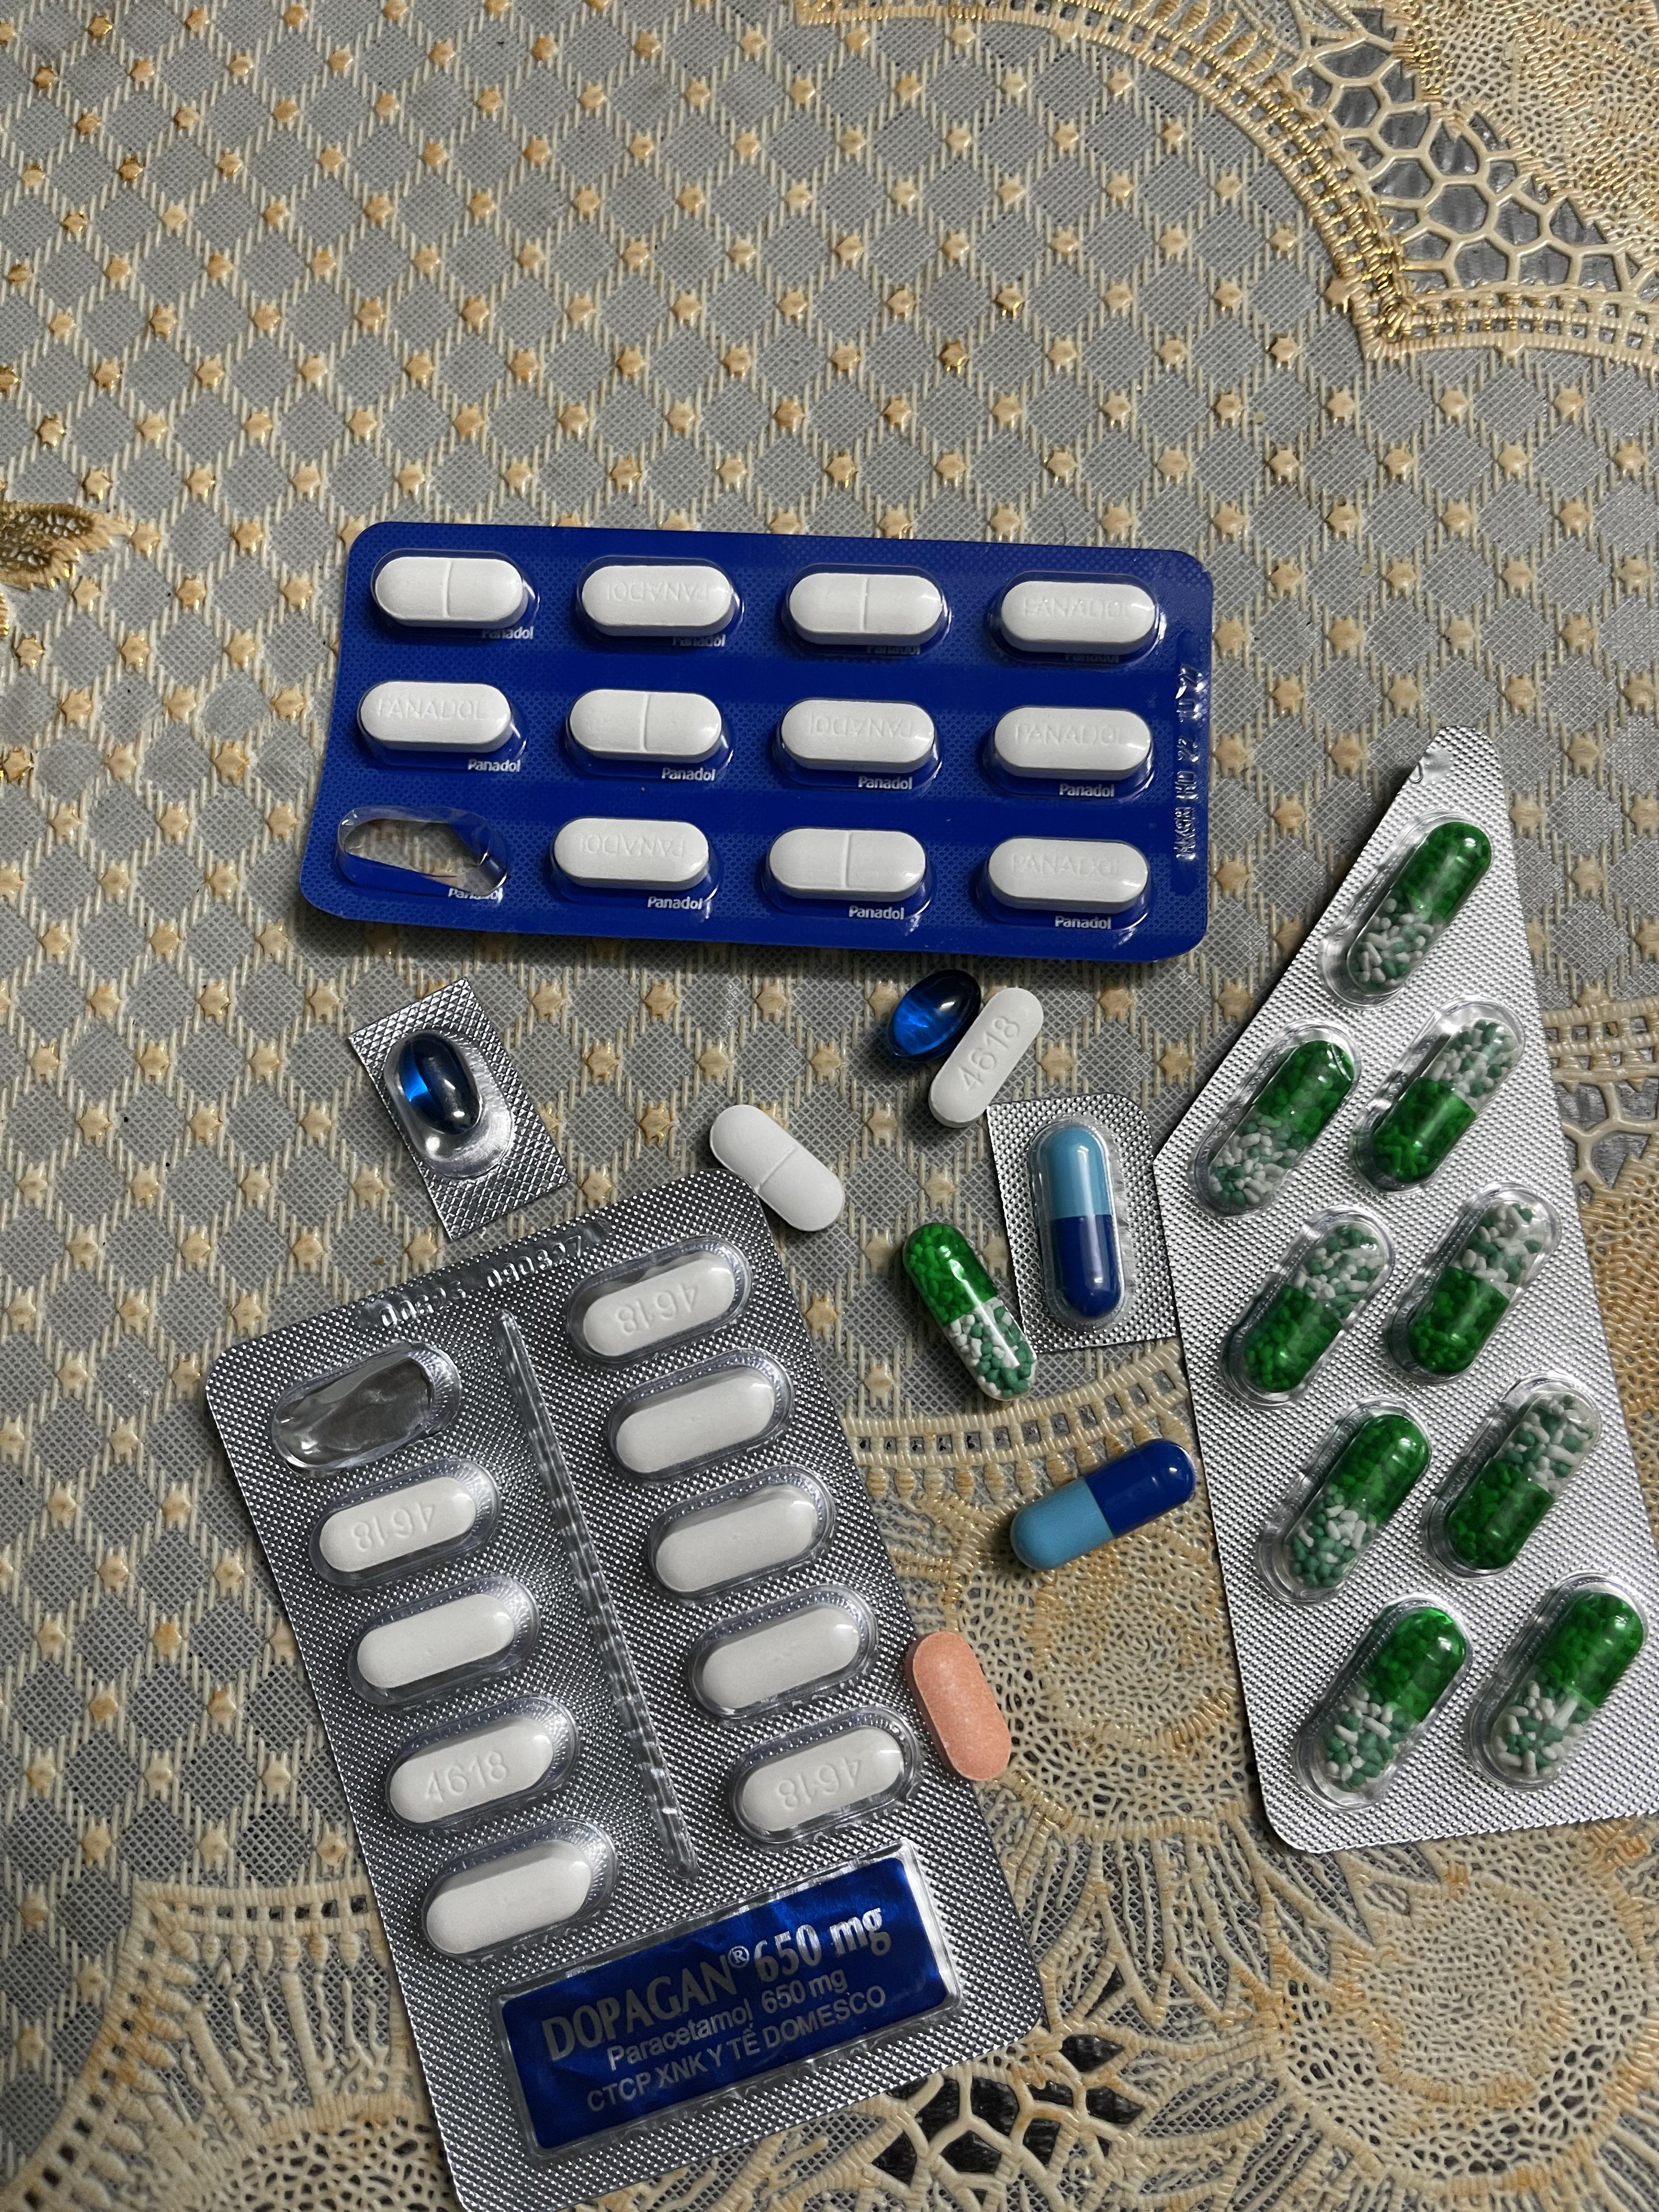Lincomyxin_500mg: (885, 970, 981, 1059), (403, 1033, 483, 1136)
Loratadine_10mg: (908, 1630, 1011, 1784)
Paracetamol_350mg: (708, 1106, 838, 1237), (784, 568, 950, 653), (568, 686, 730, 773), (777, 698, 941, 784), (992, 705, 1154, 791), (577, 561, 741, 644), (992, 575, 1159, 657), (373, 552, 533, 636), (986, 838, 1150, 918), (359, 681, 518, 763), (552, 817, 714, 895), (769, 826, 927, 904)
Paracetamol_500mg: (420, 1825, 612, 1961), (643, 1468, 833, 1604), (727, 1709, 910, 1844), (685, 1583, 870, 1714), (383, 1702, 570, 1831), (349, 1576, 535, 1698), (610, 1364, 793, 1484), (317, 1474, 490, 1585), (579, 1256, 739, 1360), (925, 986, 1046, 1123)
Paracetamol_650mg: (1469, 1576, 1650, 1791), (1382, 1188, 1560, 1395), (1291, 1595, 1464, 1808), (1424, 1374, 1605, 1576), (1258, 1402, 1432, 1604), (1223, 1209, 1394, 1406), (1349, 1001, 1527, 1188), (1194, 1029, 1356, 1211), (1326, 826, 1495, 995), (904, 1226, 1035, 1399)
pill: (1011, 1439, 1192, 1573), (1028, 1116, 1126, 1324)
